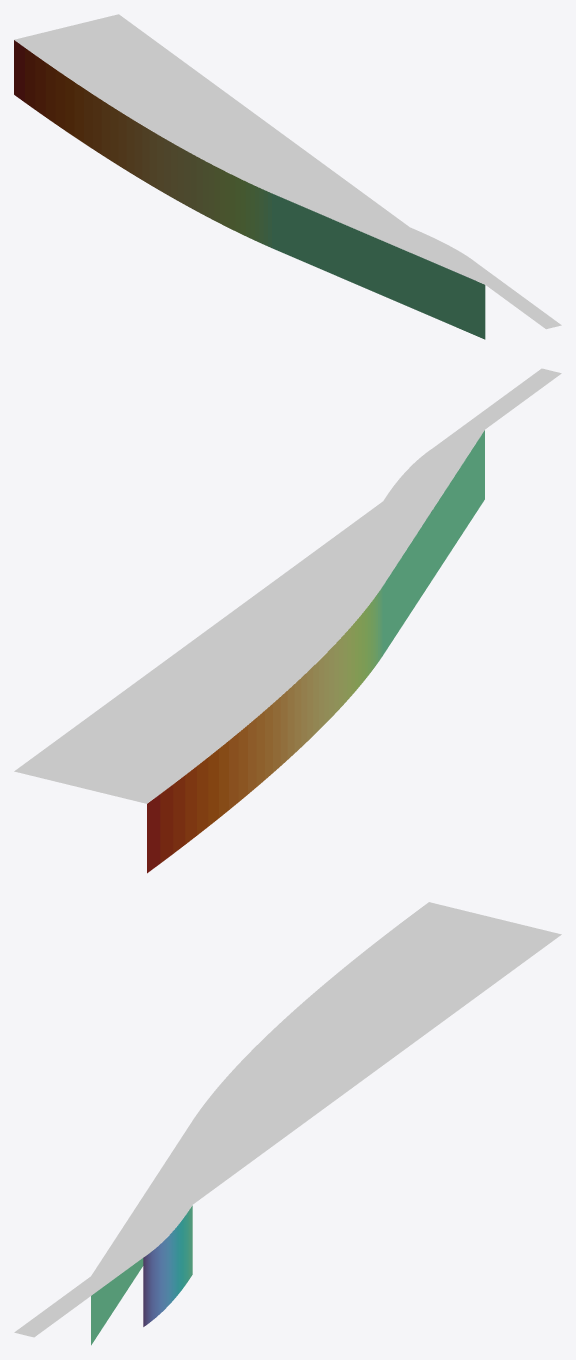
Rendered from scramjet_n38_m100.glb.
3 views of the same model, one above another, from view 1: azimuth 30°, elevation 25°; view 2: azimuth 150°, elevation 25°; view 3: azimuth 330°, elevation 25° (orthographic). The views are drawn at different scales.
Parts seen in each view (by area): view 1: Renderer Node; view 2: Renderer Node; view 3: Renderer Node.
Part boxes in pixels (x1,y1,x2,y2): Renderer Node: (14,14,561,339); Renderer Node: (14,368,561,873); Renderer Node: (14,902,561,1345).
Bounding box in the file's own units: 1.13 × 0.5006 × 7.1.
